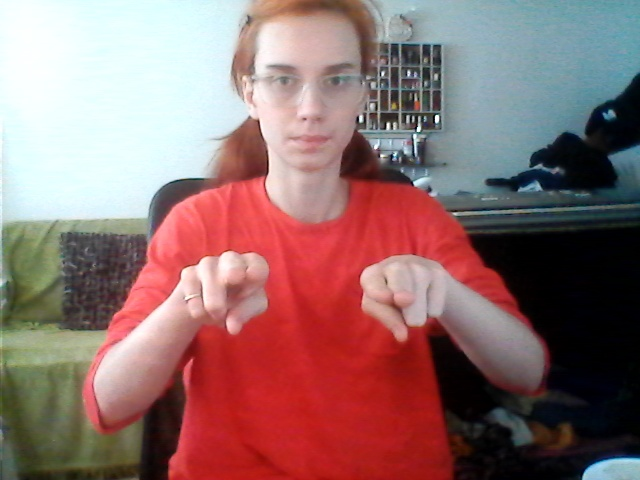brat: (175, 239, 454, 356)
